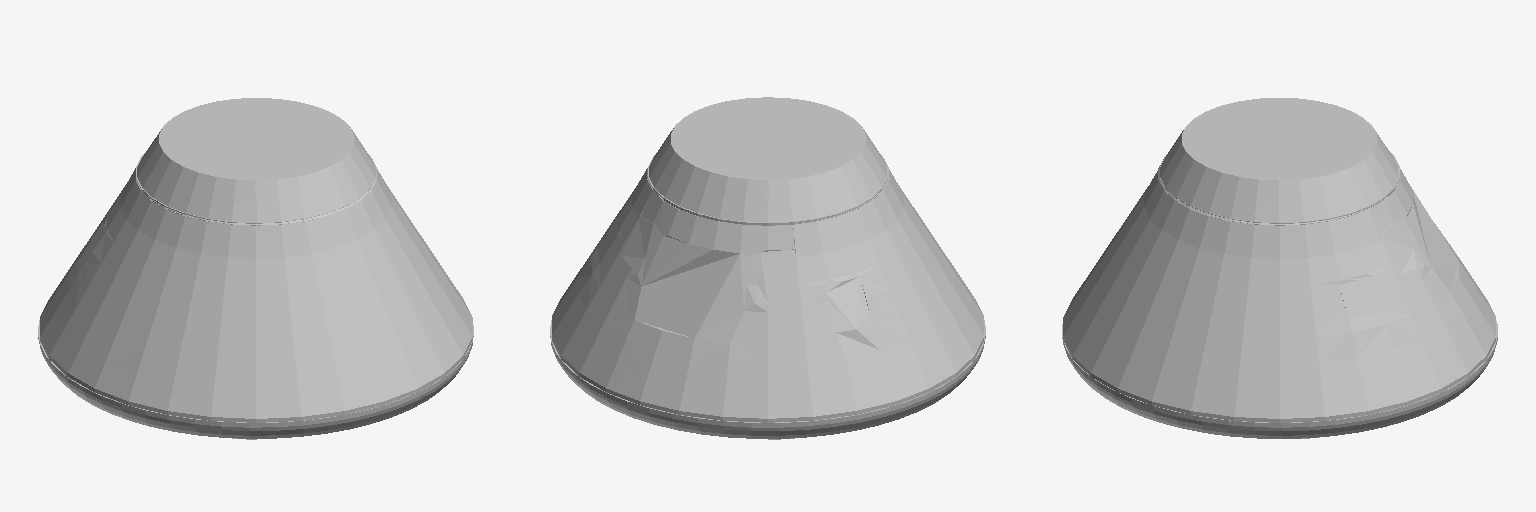
Rendered from command_module.obj.
3 renders of one model, left to right at view 1: azimuth 30°, elevation 25°; view 2: azimuth 150°, elevation 25°; view 3: azimuth 270°, elevation 25°, orthographic.
Parts seen in each view (by area): view 1: command_moduel; view 2: command_moduel; view 3: command_moduel.
Boxes of the visible parts, box(x1,y1,x2,y2) form: command_moduel: box(38, 98, 473, 439); command_moduel: box(550, 97, 985, 439); command_moduel: box(1062, 98, 1497, 438).
Size of the model in its own units: 33.95 by 20.09 by 33.9.